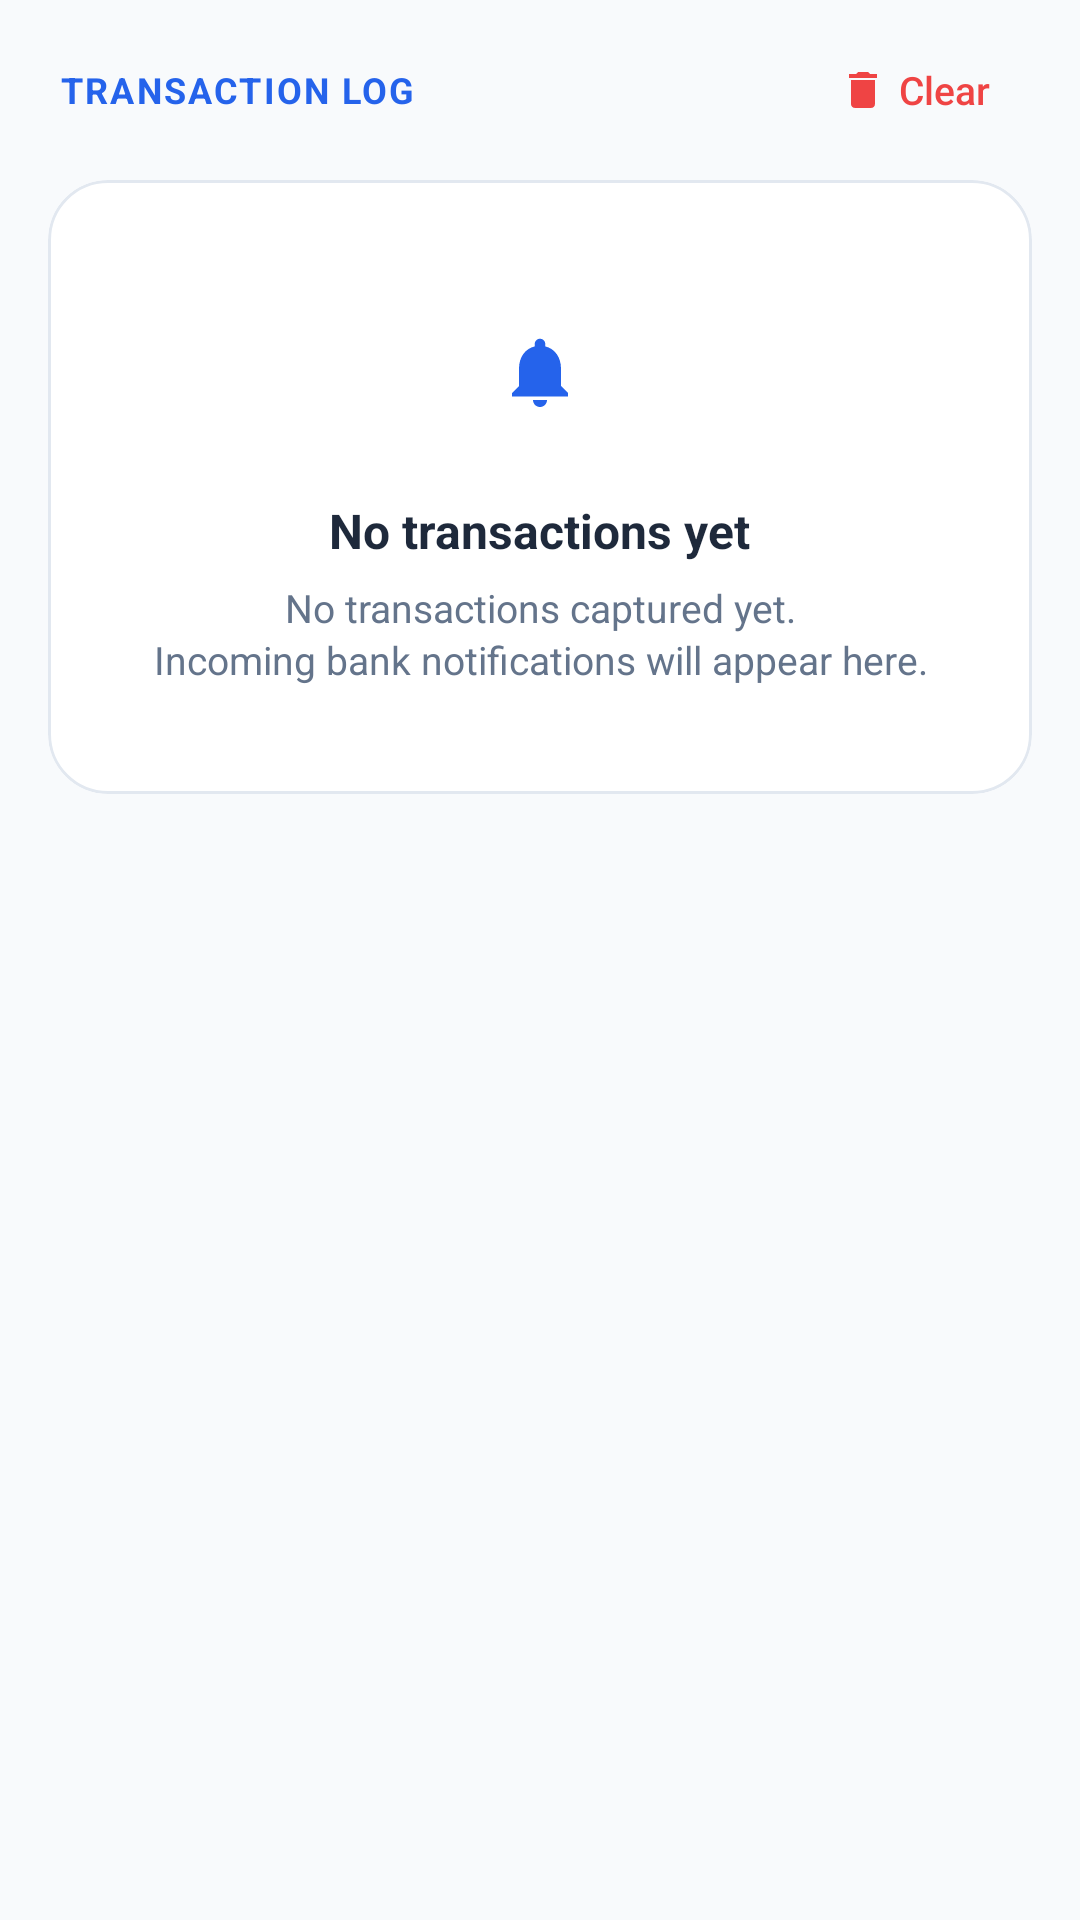

Point at icon controls on the screen. Image size 1080px×1920px, points as (x=x, y=y).
notifications: (x=540, y=372)
